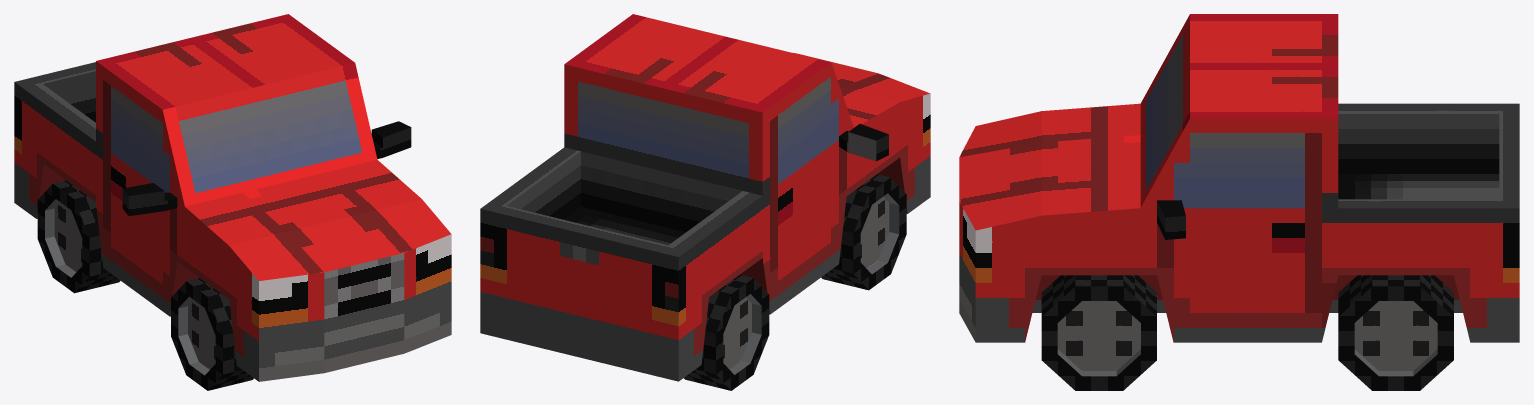
File: TutorialTruck.gltf
3 renders of one model, left to right at view 1: azimuth 30°, elevation 25°; view 2: azimuth 150°, elevation 25°; view 3: azimuth 270°, elevation 25°, orthographic. The views are drawn at different scales.
Parts seen in each view (by area): view 1: body-col, wheel_reear_right-col, wheel_front_right-col, Mirror_Right-col, Mirror_Left-col; view 2: body-col, wheel_reear_right-col, wheel_front_right-col, Mirror_Right-col; view 3: body-col, wheel_rear_left-col, wheel_front_left-col, Mirror_Left-col.
Part boxes in pixels (bbox=[...]): body-col: bbox=[14, 14, 451, 381]; wheel_reear_right-col: bbox=[37, 180, 120, 293]; wheel_front_right-col: bbox=[171, 278, 253, 390]; Mirror_Right-col: bbox=[122, 183, 177, 216]; Mirror_Left-col: bbox=[371, 121, 411, 158]; body-col: bbox=[480, 14, 930, 381]; wheel_reear_right-col: bbox=[684, 274, 769, 390]; wheel_front_right-col: bbox=[821, 174, 906, 290]; Mirror_Right-col: bbox=[839, 124, 888, 161]; body-col: bbox=[959, 14, 1519, 342]; wheel_rear_left-col: bbox=[1338, 275, 1453, 390]; wheel_front_left-col: bbox=[1041, 275, 1156, 390]; Mirror_Left-col: bbox=[1157, 200, 1185, 239].
Size of the model in its own units: 1.38 by 1.12 by 2.12.
Materials: 1 (1 with a texture image).
